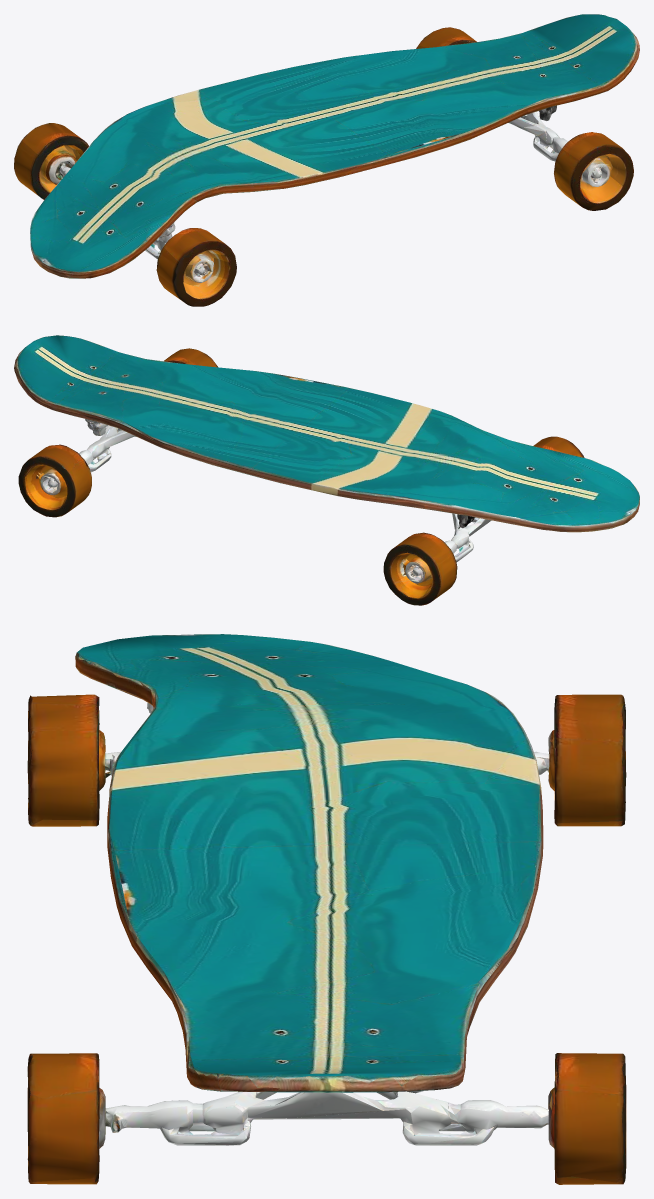
The model's file is retro.glb.
3 renders of one model, top to bottom at view 1: azimuth 30°, elevation 25°; view 2: azimuth 150°, elevation 25°; view 3: azimuth 270°, elevation 25°, orthographic. The views are drawn at different scales.
Visible parts, largest first — view 1: body; view 2: body; view 3: body, wheel_1.
Part boxes in pixels (x1,y1,x2,y2): body: [14, 14, 639, 306]; body: [14, 335, 639, 605]; body: [27, 634, 626, 1184]; wheel_1: [202, 1092, 379, 1134].
Size of the model in its own units: 1.9 by 0.3053 by 0.8608.
1 material, 1 textured.
